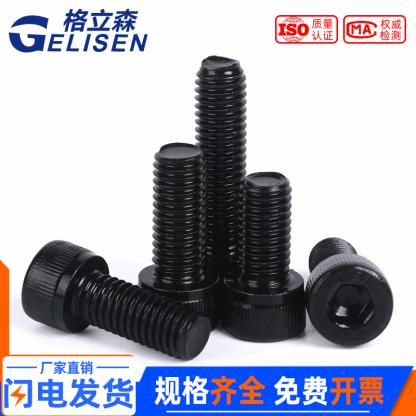FOD: (20, 240, 213, 362), (138, 143, 221, 331), (224, 170, 300, 344), (302, 235, 398, 353)
